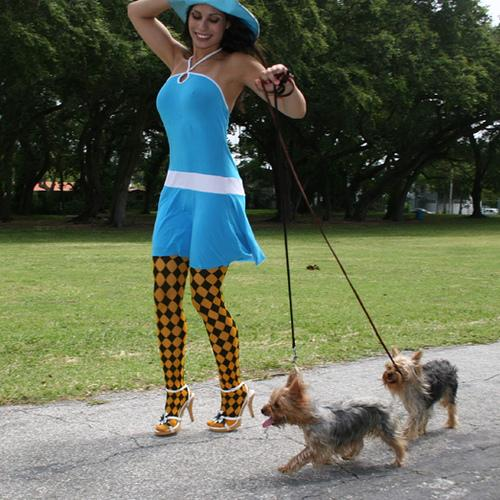person: (125, 1, 306, 434)
